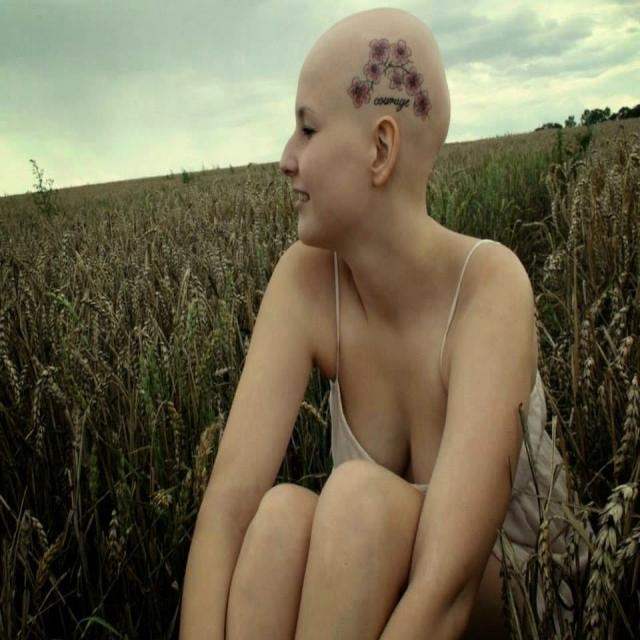no_helmet: (276, 3, 464, 159)
